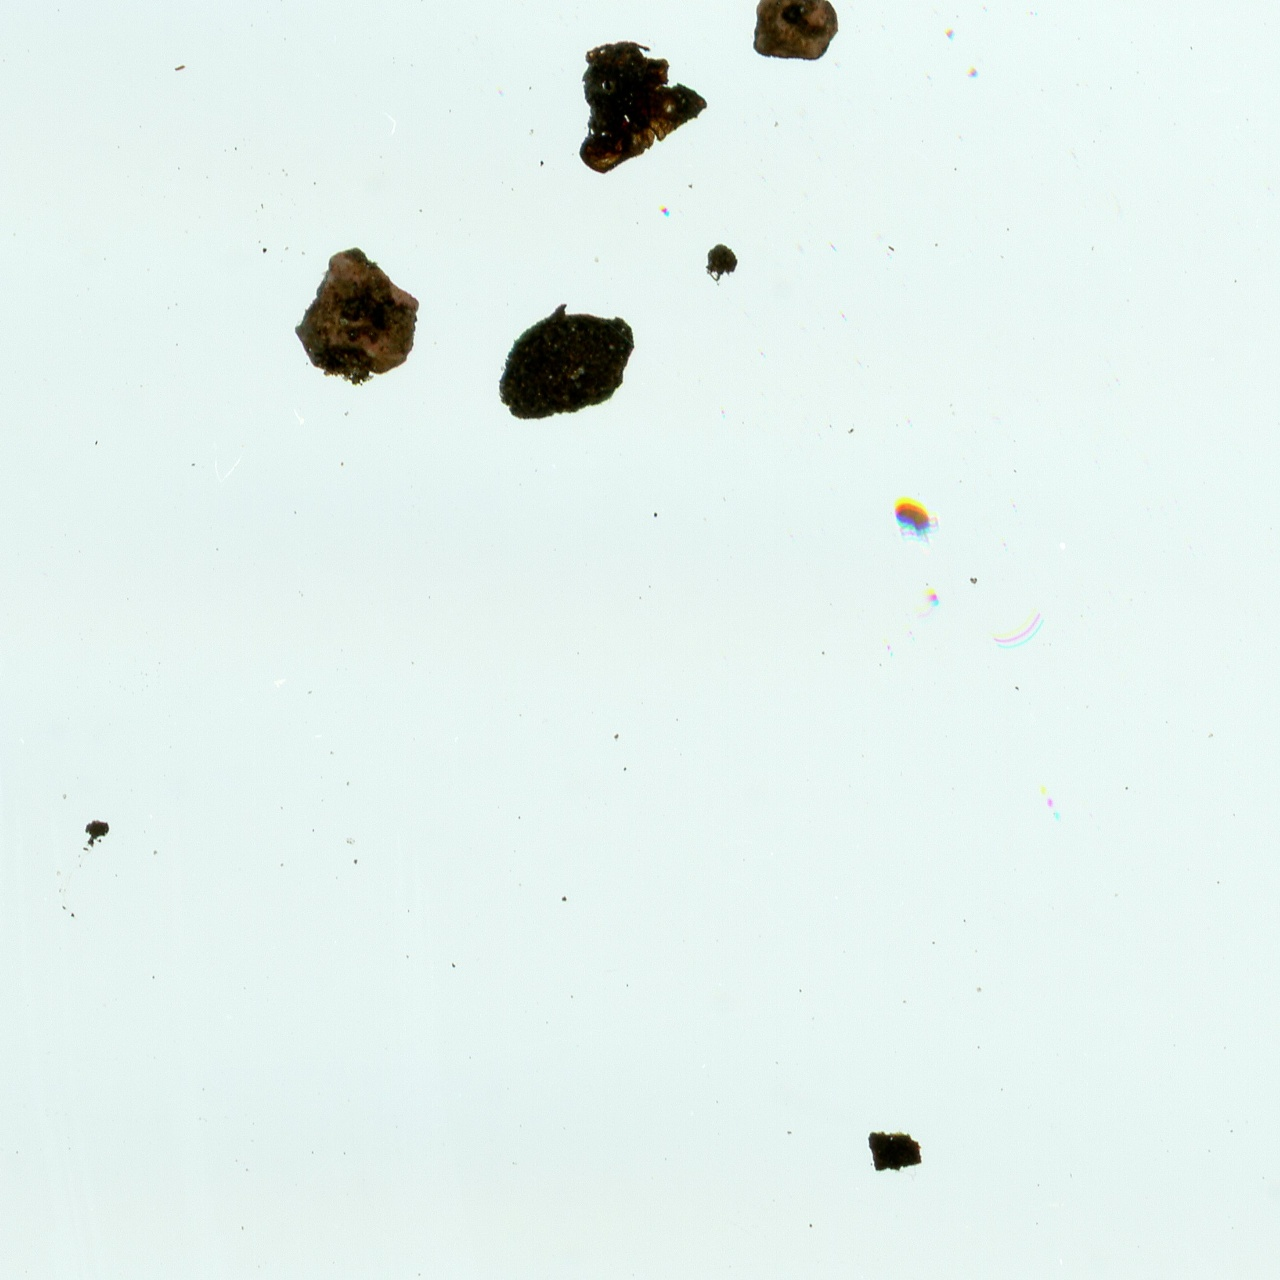arthropod: (883, 495, 945, 547)
